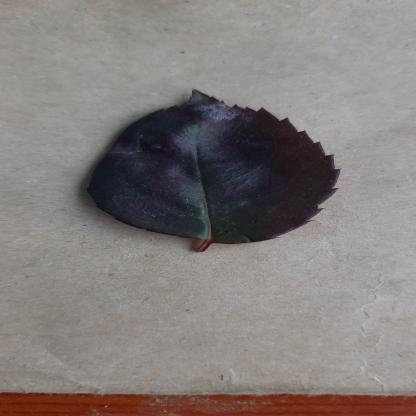powdery-mildew: (76, 90, 350, 246)
